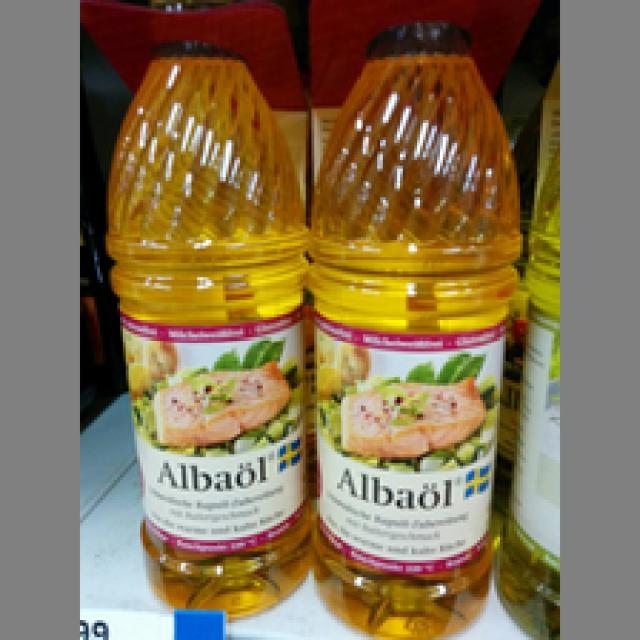groceries: (306, 0, 520, 637), (103, 0, 308, 617)
